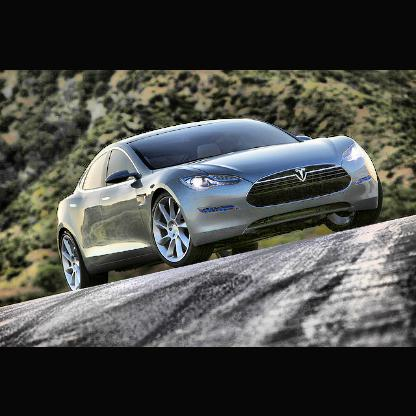Tesla Model S Sedan 2012: (55, 118, 384, 290)
